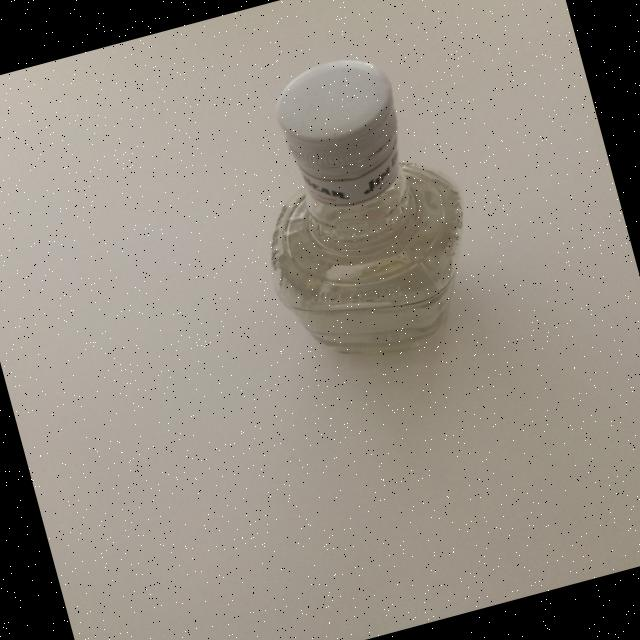glass: (220, 37, 496, 379)
